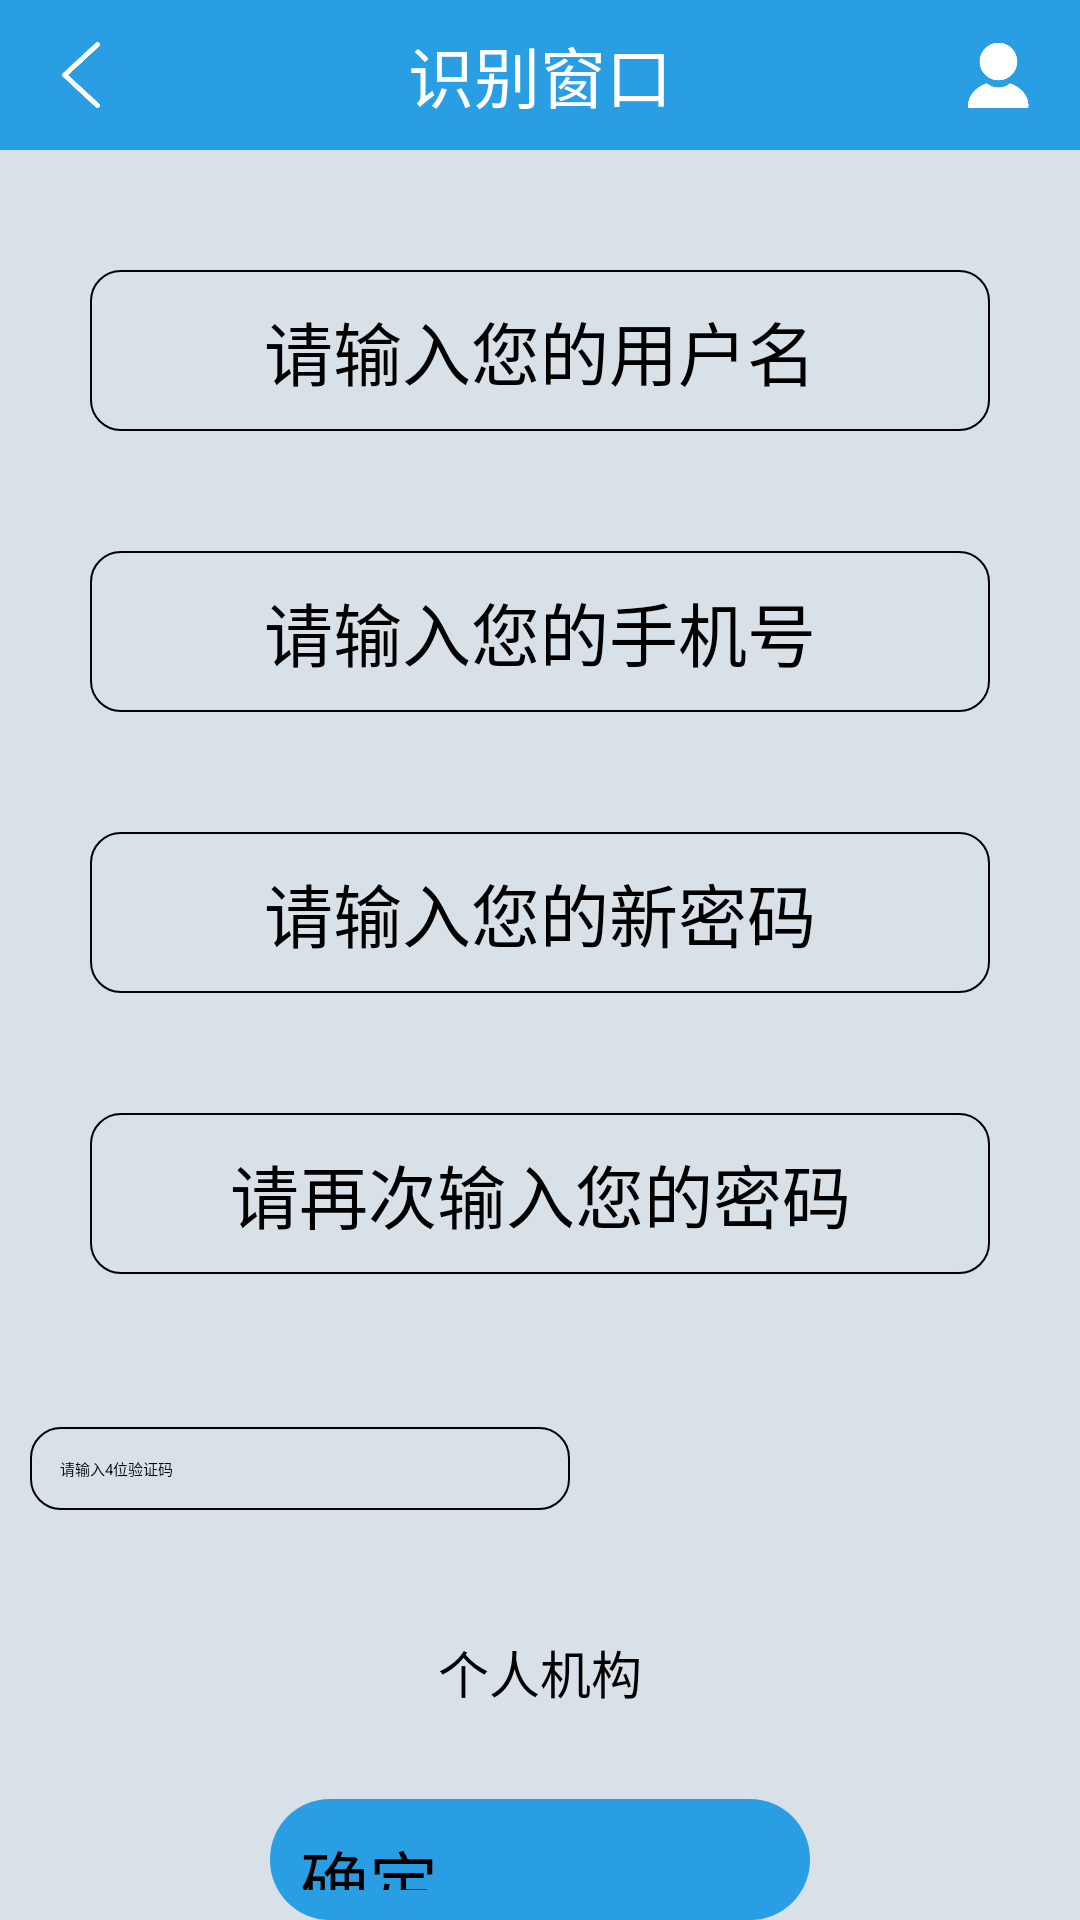

Icons on this 1080px x 1920px Android screen, each with its box as (x1, y1, x2, y2):
back: (62, 42, 100, 108)
login: (968, 43, 1029, 108)
